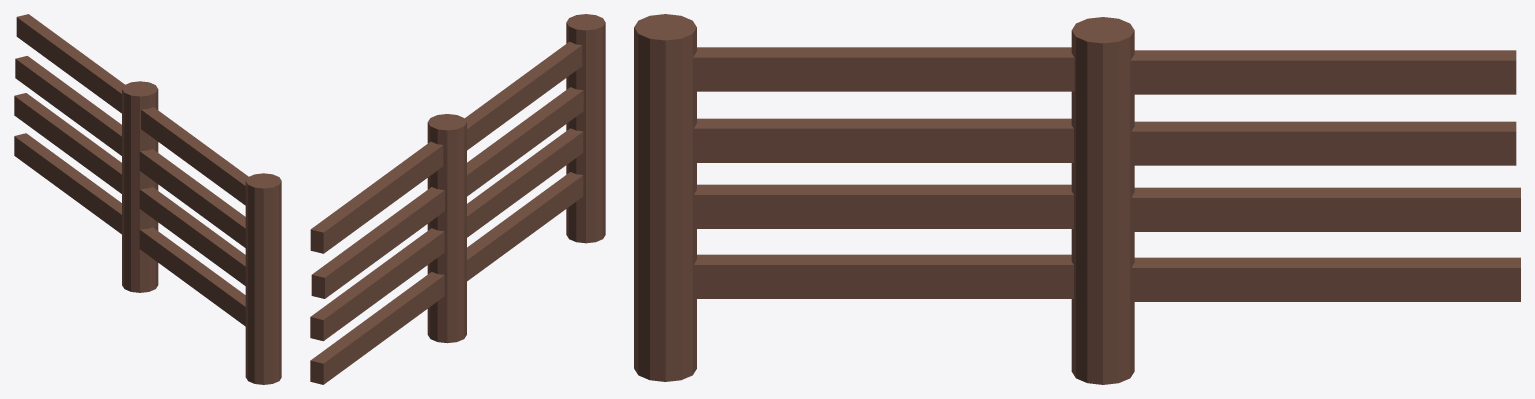
The model's file is ranch-fence-section.glb.
3 views of the same model, side by side, from view 1: azimuth 30°, elevation 25°; view 2: azimuth 150°, elevation 25°; view 3: azimuth 270°, elevation 25° (orthographic). The views are drawn at different scales.
Visible parts, largest first — view 1: Node; view 2: Node; view 3: Node.
Part boxes in pixels (x1,y1,x2,y2): Node: (14, 14, 281, 384); Node: (310, 14, 605, 384); Node: (634, 14, 1520, 384).
Bounding box in the file's own units: 0.3042 × 1.71 × 4.01.
